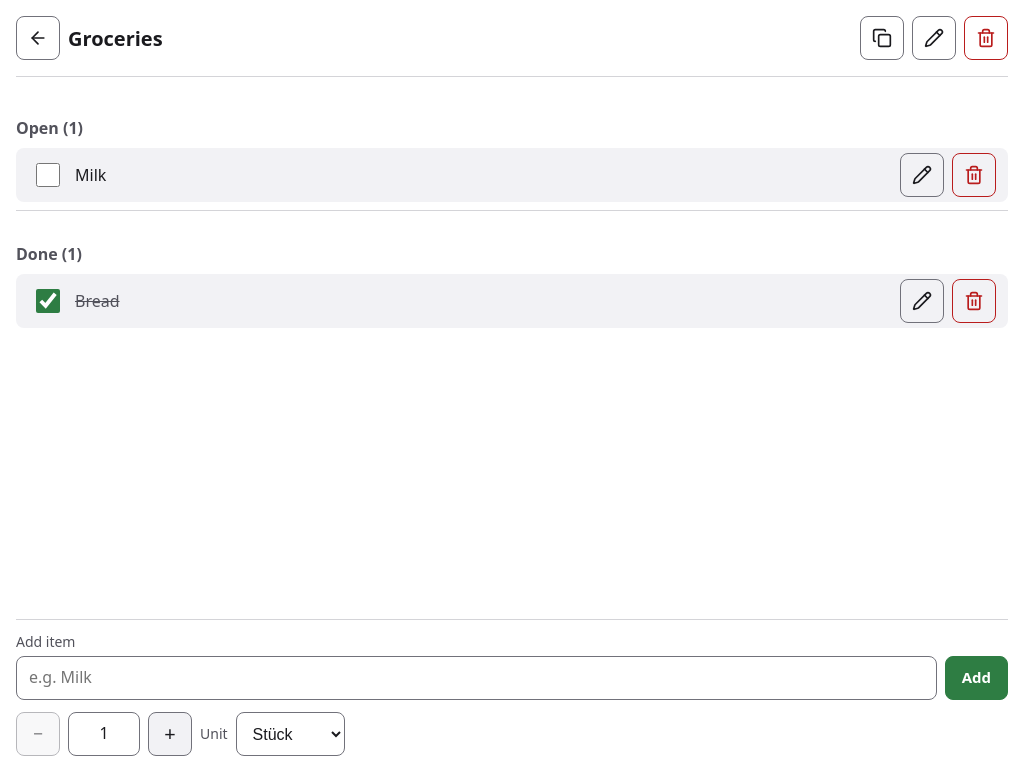
it: ListDetail › adds an item with a typed quantity (US-L.12)
Type "Bread" into the field labelled "Add item".
click(476, 678); type("Bread")  # box 16,656 -> 937,700
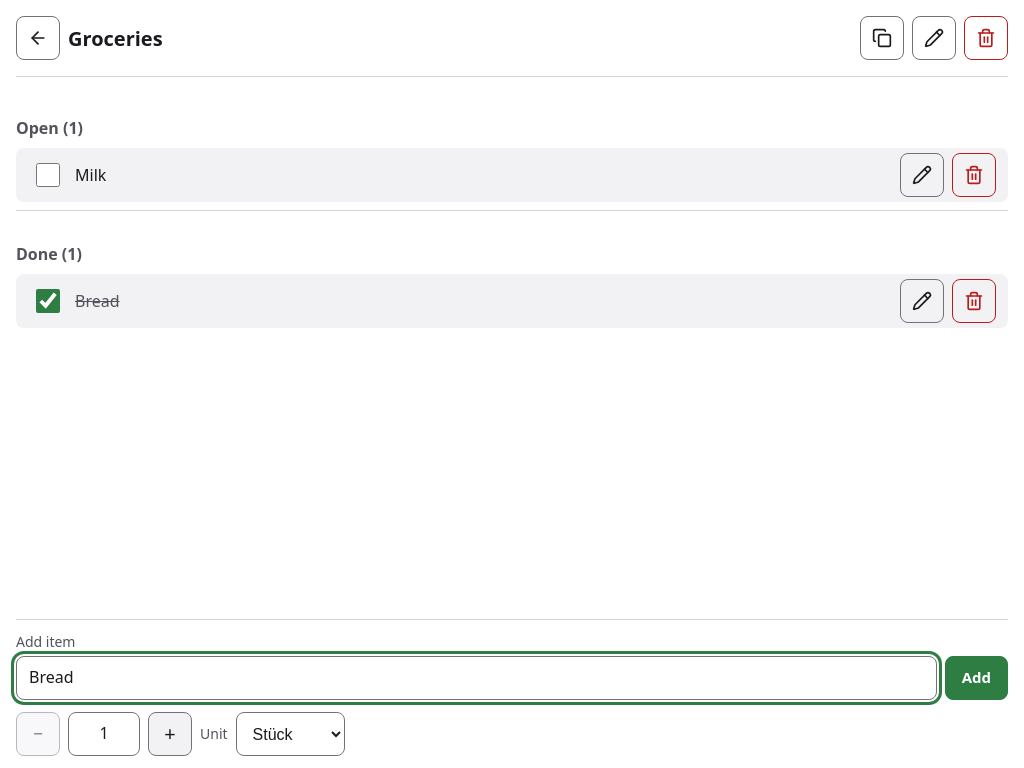
// 200 is typed, not tapped 199 times.
Replace the text in the number field with test id "quick-add-quantity" with "200" at (104, 734), box 68,712 -> 140,756
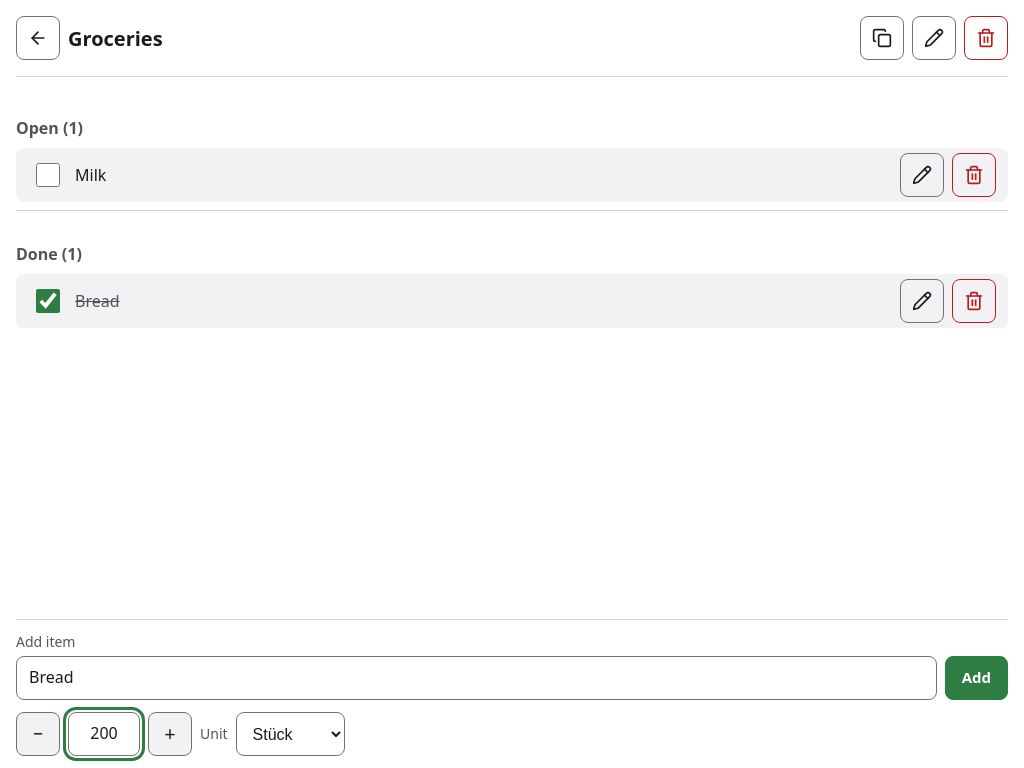
Select "g" in the dropdown labelled "Unit" at (290, 734), box 236,712 -> 345,756
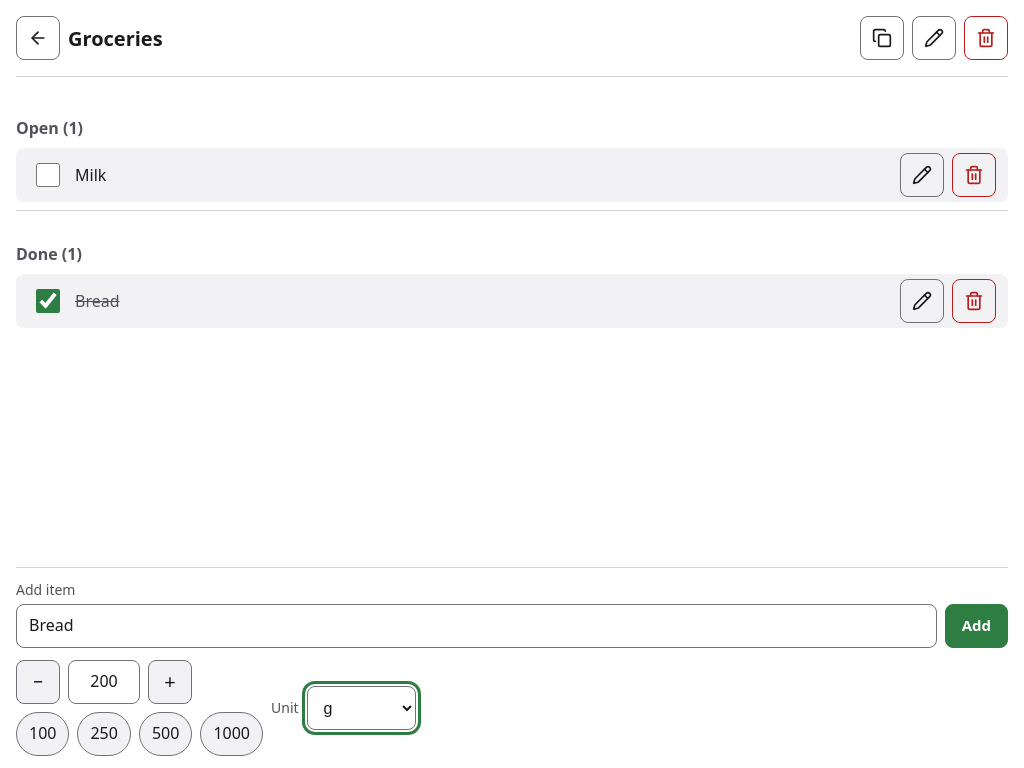
Click the button "Add".
click(976, 626)  # box 945,604 -> 1008,648
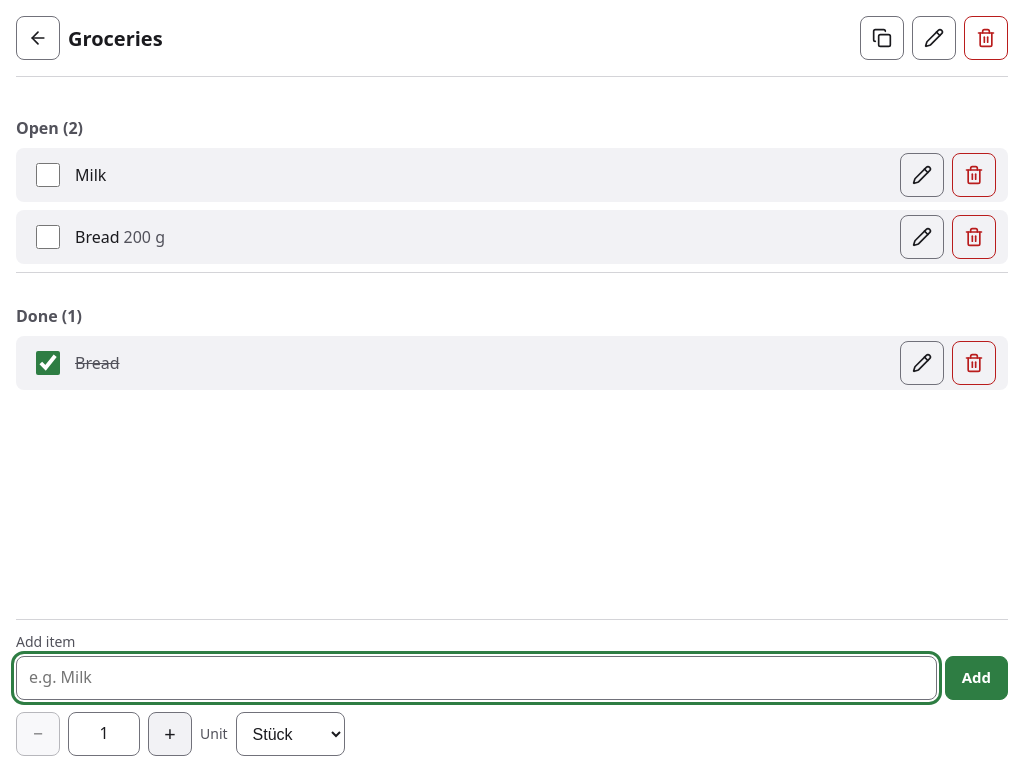
Expected: the text "200 g" is shown, 124,226 -> 165,249
Expected: the number field with test id "quick-add-quantity" holds "1", 68,712 -> 140,756
